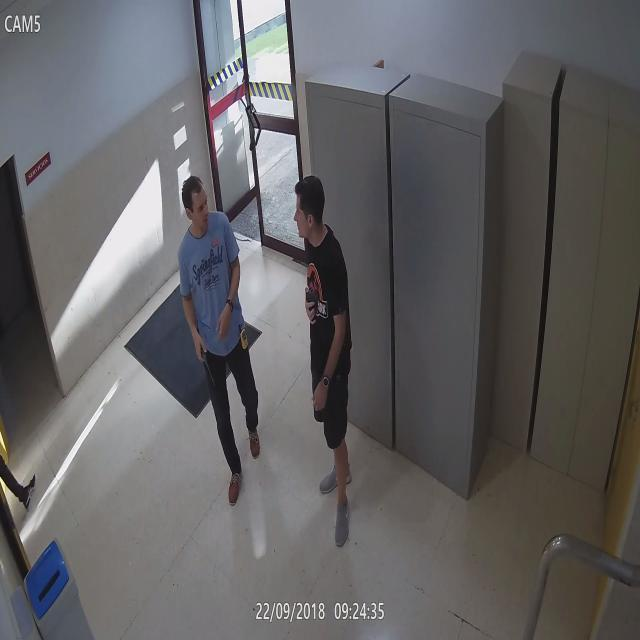gun: (305, 287, 320, 324)
